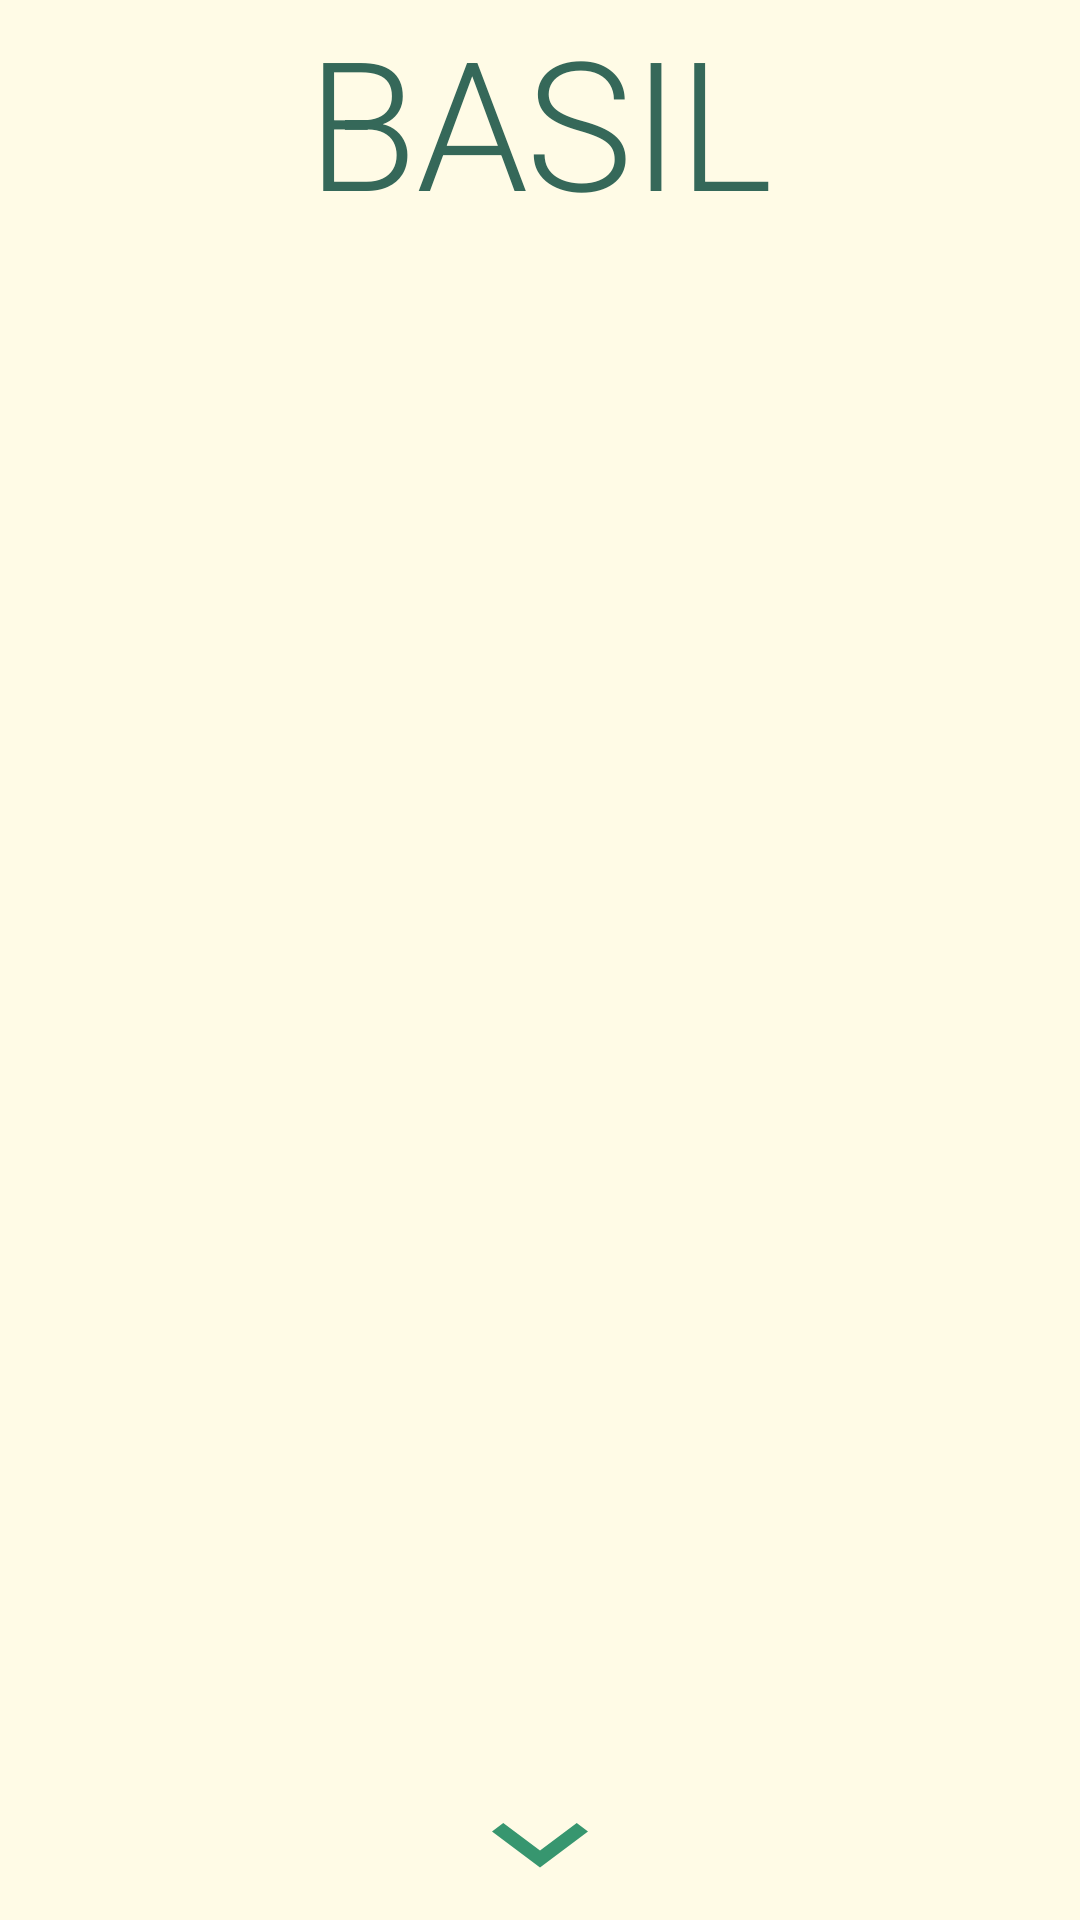

Icons on this 1080x1920 Android screen, each with the point to tap as (x=x, y=y):
down arrow: (x=540, y=1845)
